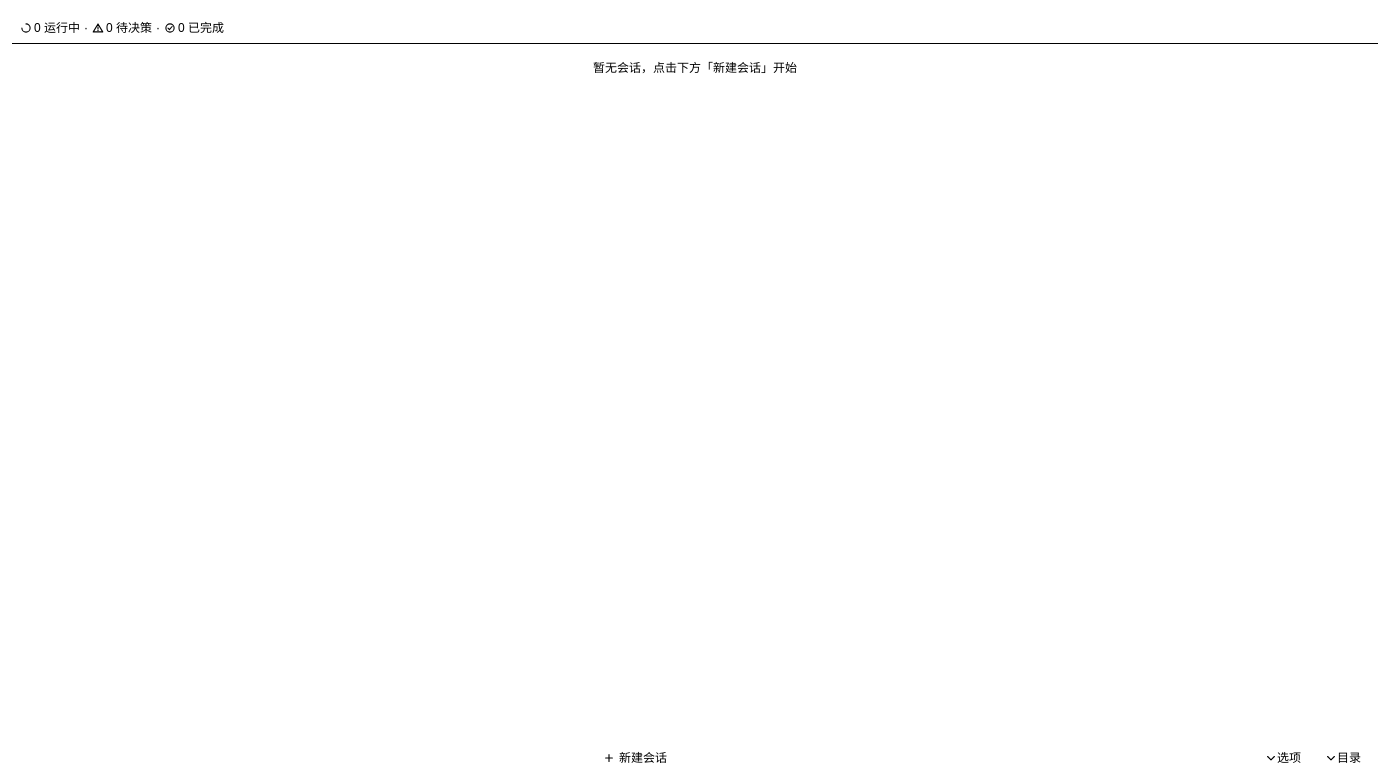
Test case: 新建会话「选择工作目录」面板 › 手输路径 → new_session 携带 workingDir；面板关闭
Click the button with test id "new-session-dir-button" at (1343, 758), box [1316,744,1370,772]
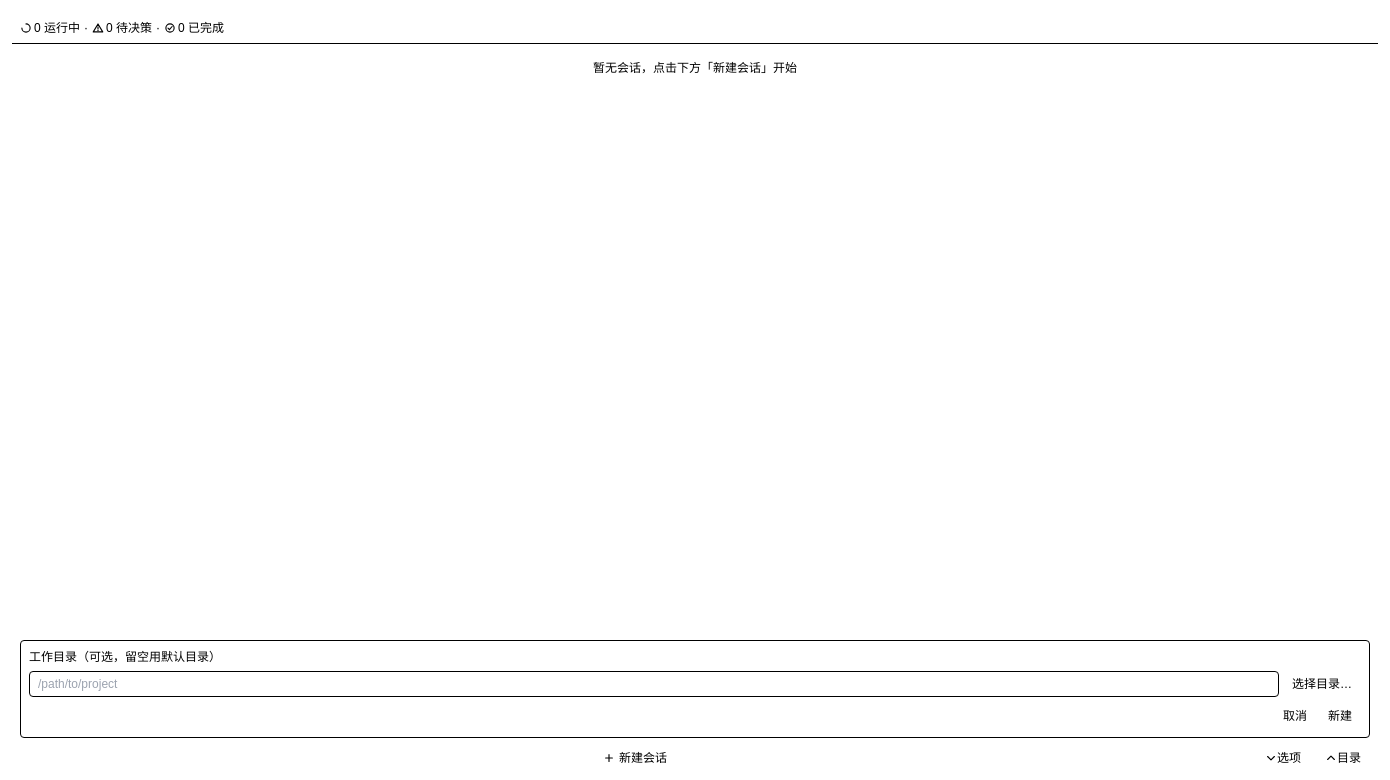
Type "/proj/a" into the field with test id "new-session-dir-input" at (654, 684), box [29,671,1279,697]
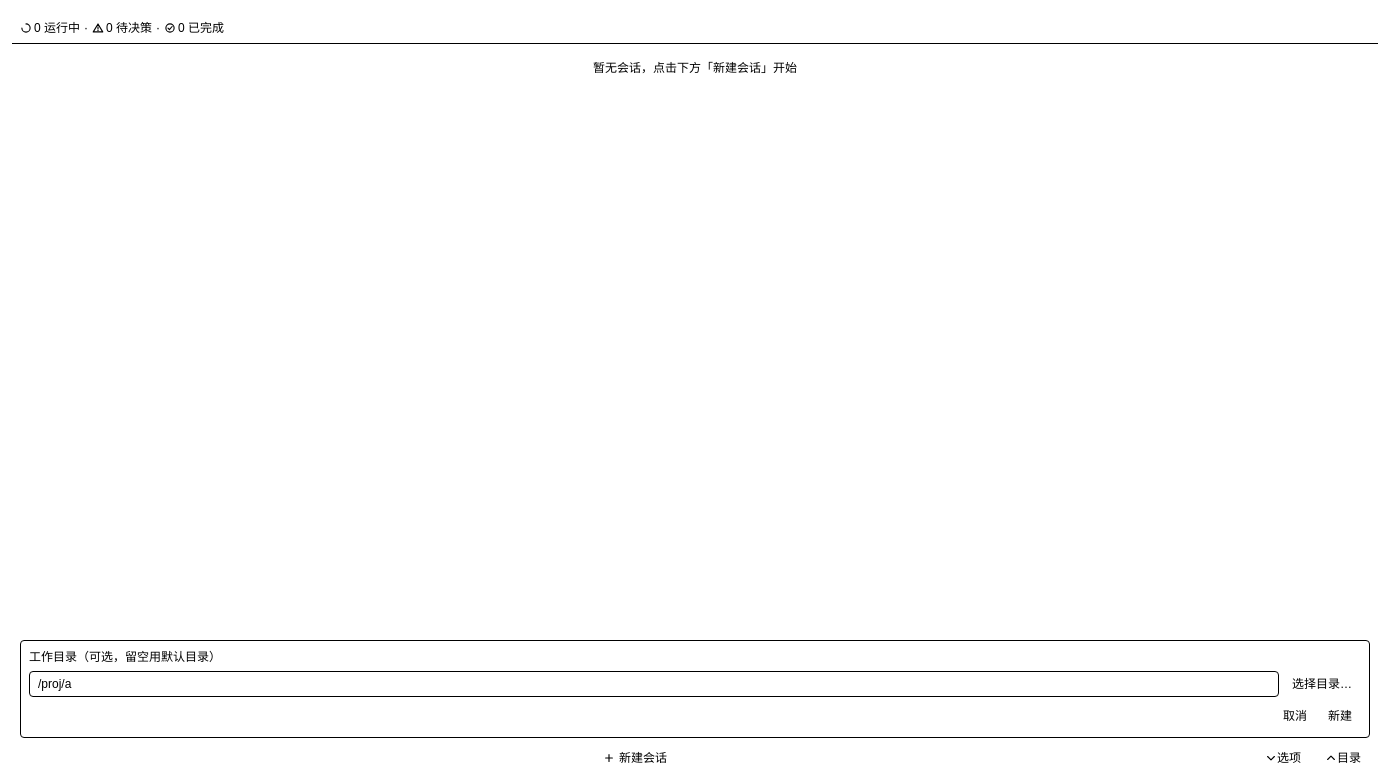
Click the button with test id "new-session-dir-submit" at (1340, 716), box [1319,703,1361,729]
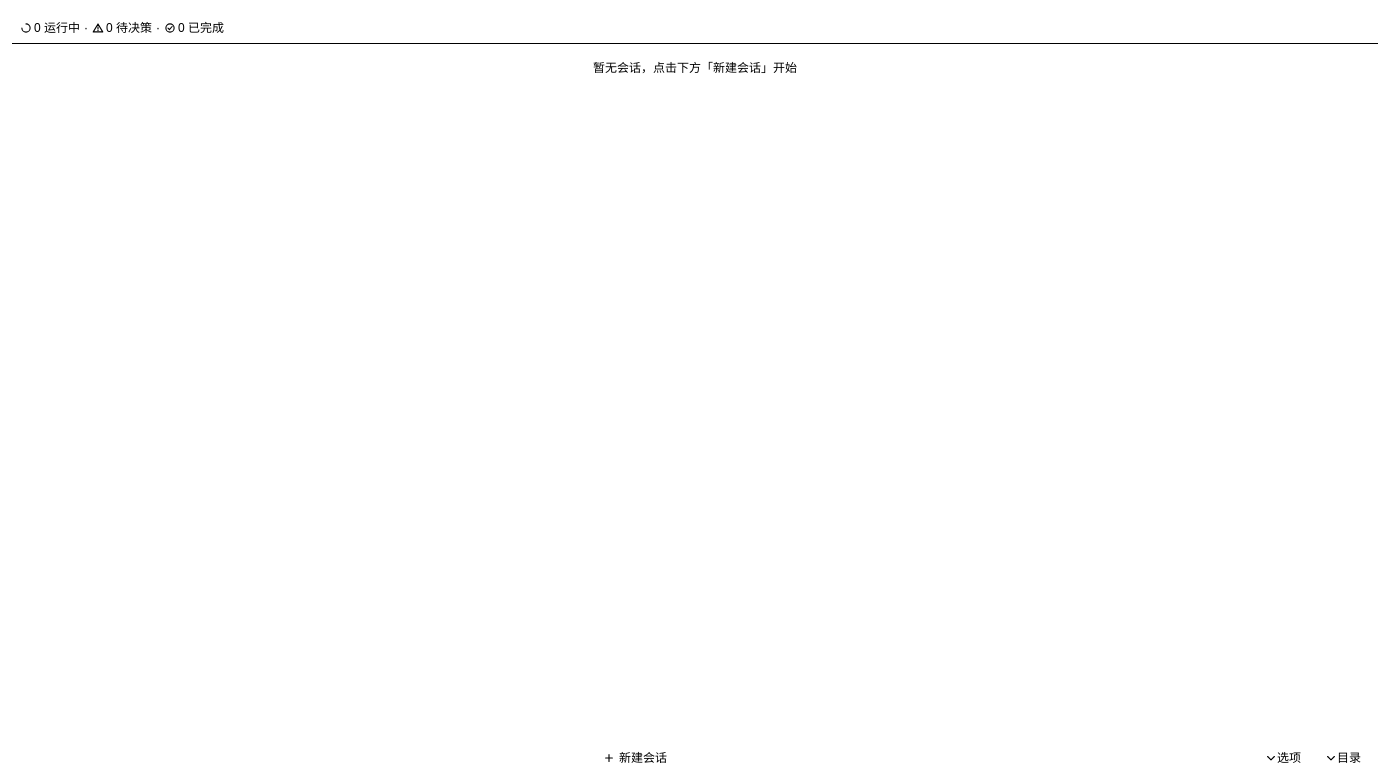
Check: the element with test id "new-session-dir-panel" is gone
